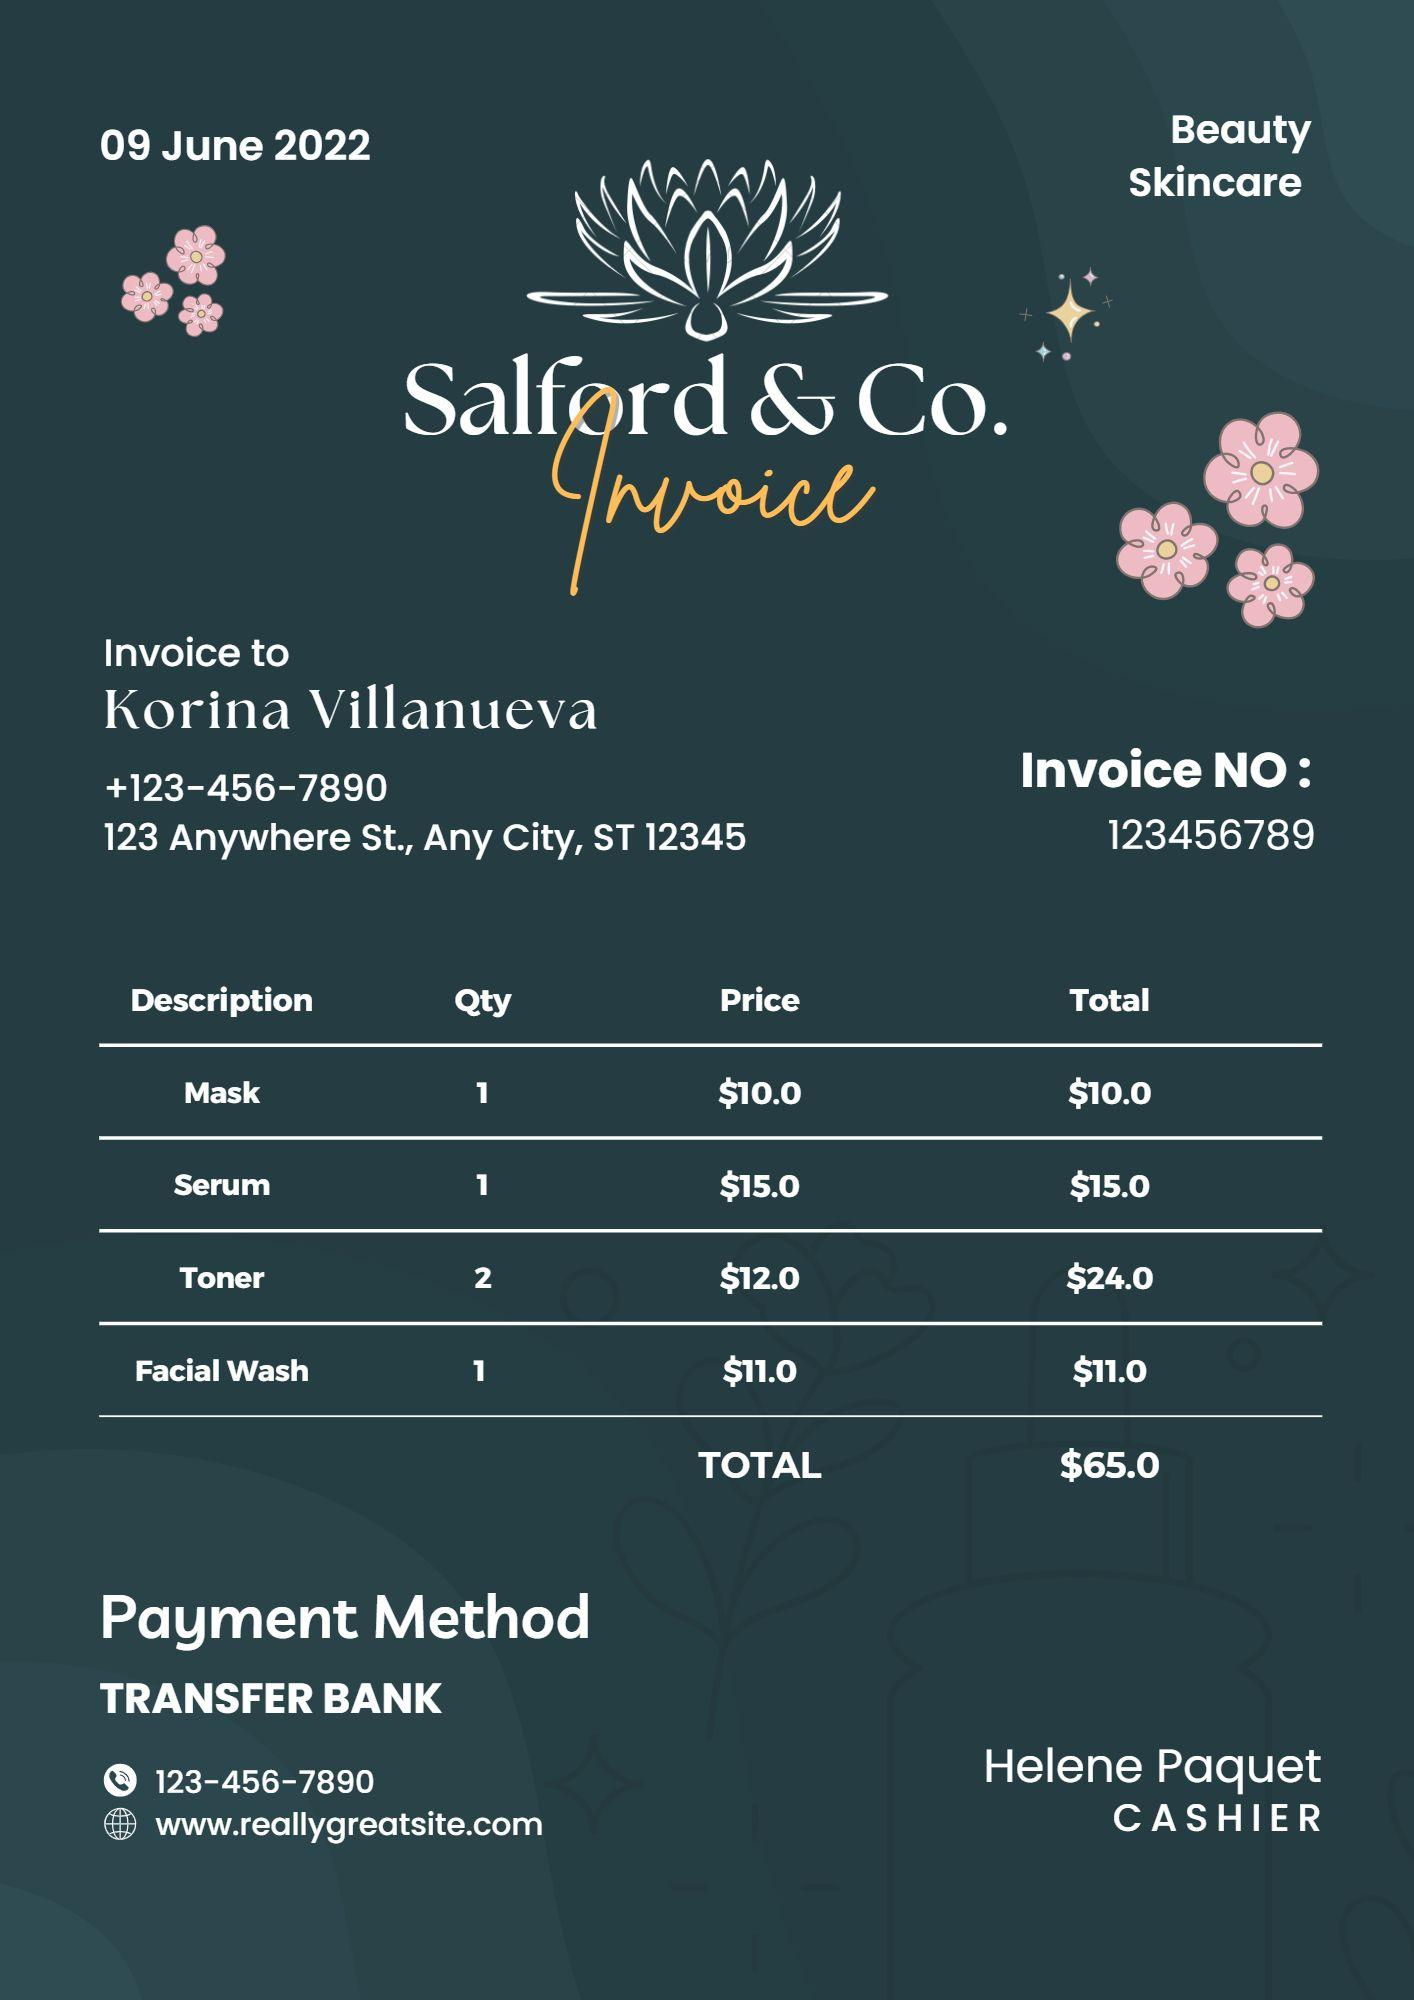ROI: (102, 965, 1313, 1430)
